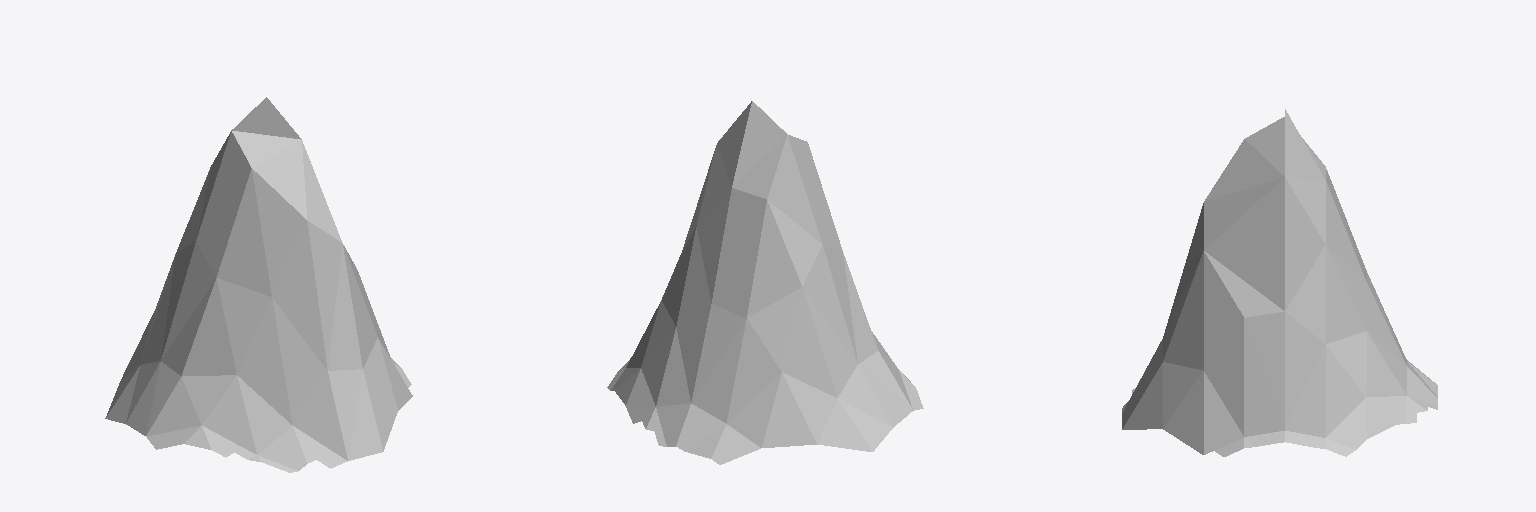
The model's file is tree_31.obj.
3 renders of one model, left to right at view 1: azimuth 30°, elevation 25°; view 2: azimuth 150°, elevation 25°; view 3: azimuth 270°, elevation 25°, orthographic.
Visible parts, largest first — view 1: tree_31.001; view 2: tree_31.001; view 3: tree_31.001.
Boxes of the visible parts, box(x1,y1,x2,y2) form: tree_31.001: box(105, 97, 412, 472); tree_31.001: box(607, 101, 923, 464); tree_31.001: box(1122, 109, 1437, 456).
Size of the model in its own units: 7.25 by 8.35 by 7.75.